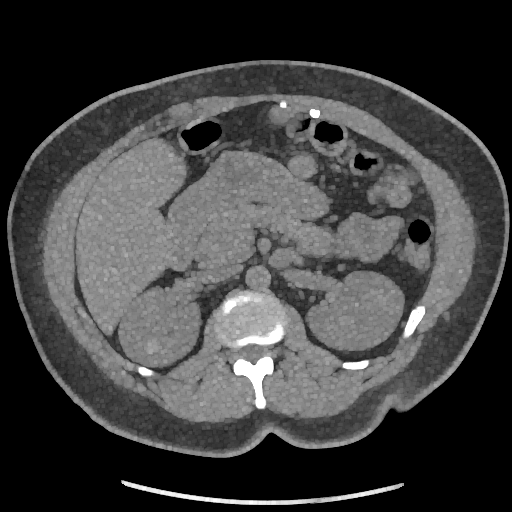Lesion: (143, 336, 165, 359)
